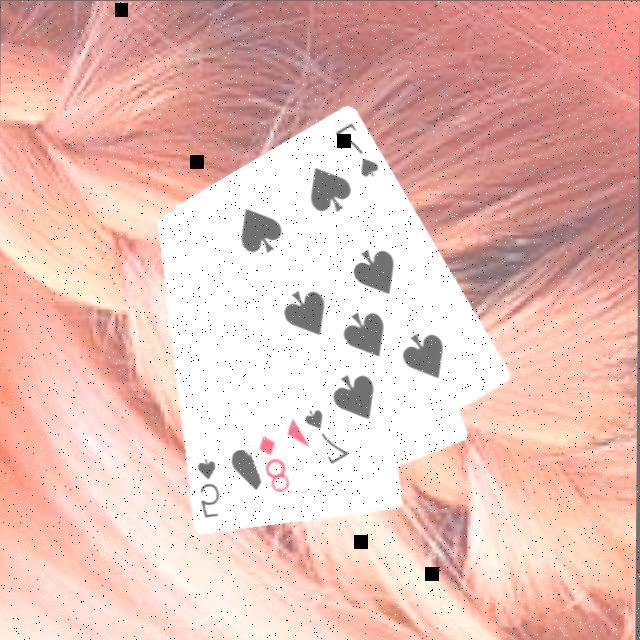5S: (192, 457, 222, 522)
7S: (299, 407, 351, 469), (329, 120, 381, 182)
8D: (253, 433, 293, 497)
